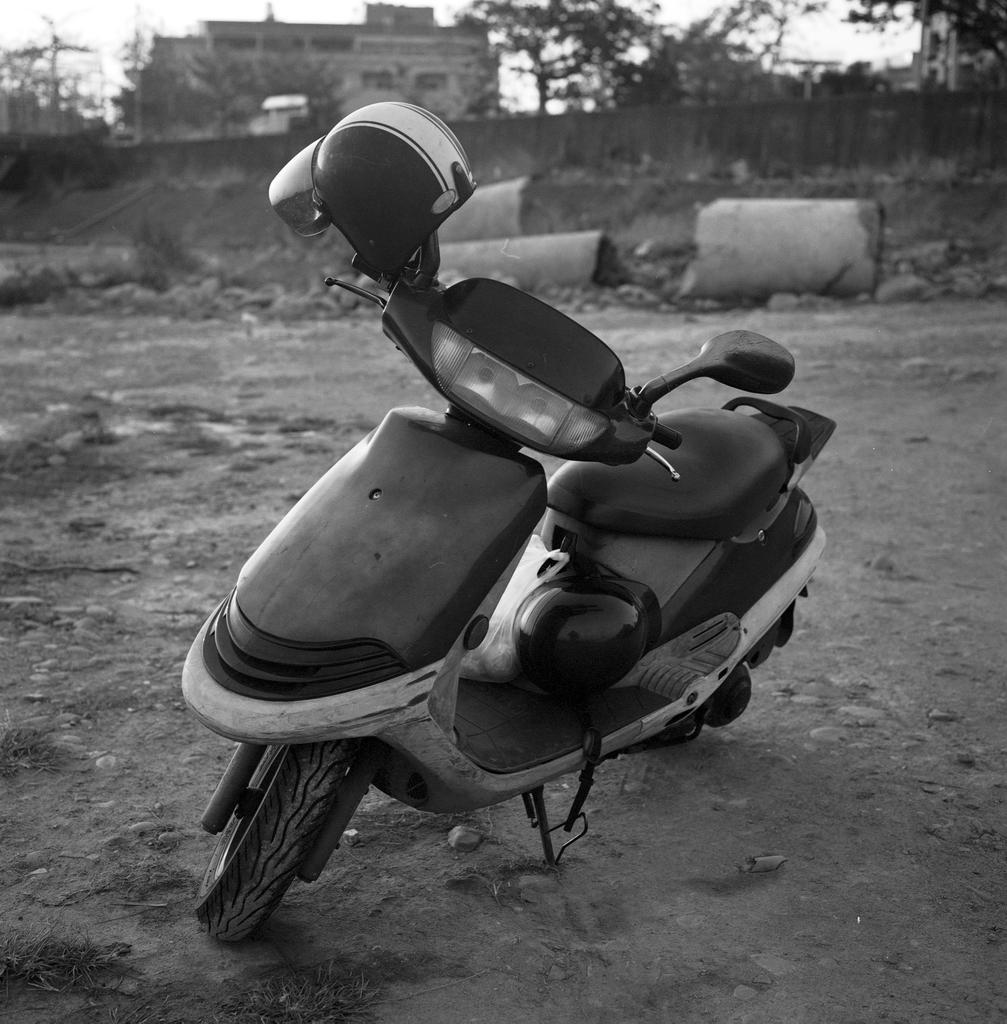helmet: (268, 99, 479, 276)
